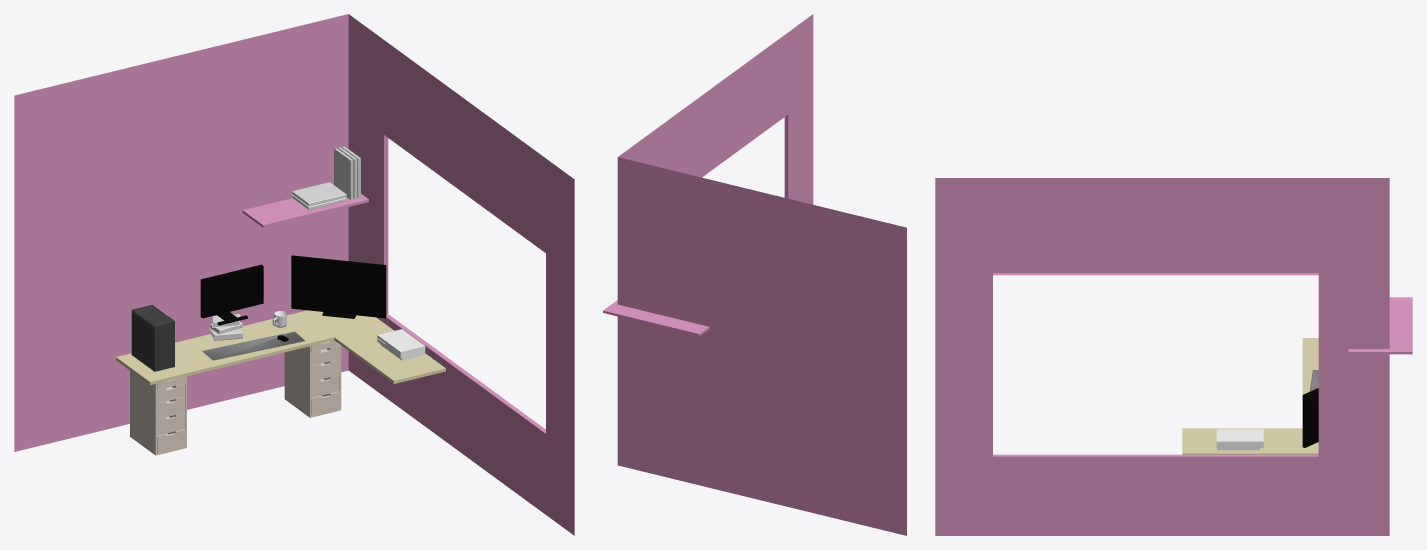
File: room.glb
3 renders of one model, left to right at view 1: azimuth 30°, elevation 25°; view 2: azimuth 150°, elevation 25°; view 3: azimuth 270°, elevation 25°, orthographic. The views are drawn at different scales.
Visible parts, largest first — view 1: Wall, Table, TV, DrawersL, DrawerR, Computer Monitor, Computer, DnD Books, MouseMat, Cube; view 2: Wall; view 3: Wall, Table, Cube, TV.
Boxes of the visible parts, x1,y1,x2,y2 form: Wall: [14, 14, 574, 535]; Table: [116, 310, 445, 384]; TV: [291, 255, 386, 318]; DrawersL: [130, 371, 186, 455]; DrawerR: [284, 340, 341, 417]; Computer Monitor: [200, 264, 263, 325]; Computer: [131, 305, 174, 371]; DnD Books: [292, 146, 360, 210]; MouseMat: [202, 331, 305, 360]; Cube: [377, 329, 425, 360]; Wall: [603, 14, 906, 535]; Wall: [935, 178, 1412, 535]; Table: [1182, 338, 1318, 454]; Cube: [1216, 429, 1263, 450]; TV: [1302, 388, 1318, 447].
Bounding box in the file's own units: 4.59 × 4.6 × 5.56.
